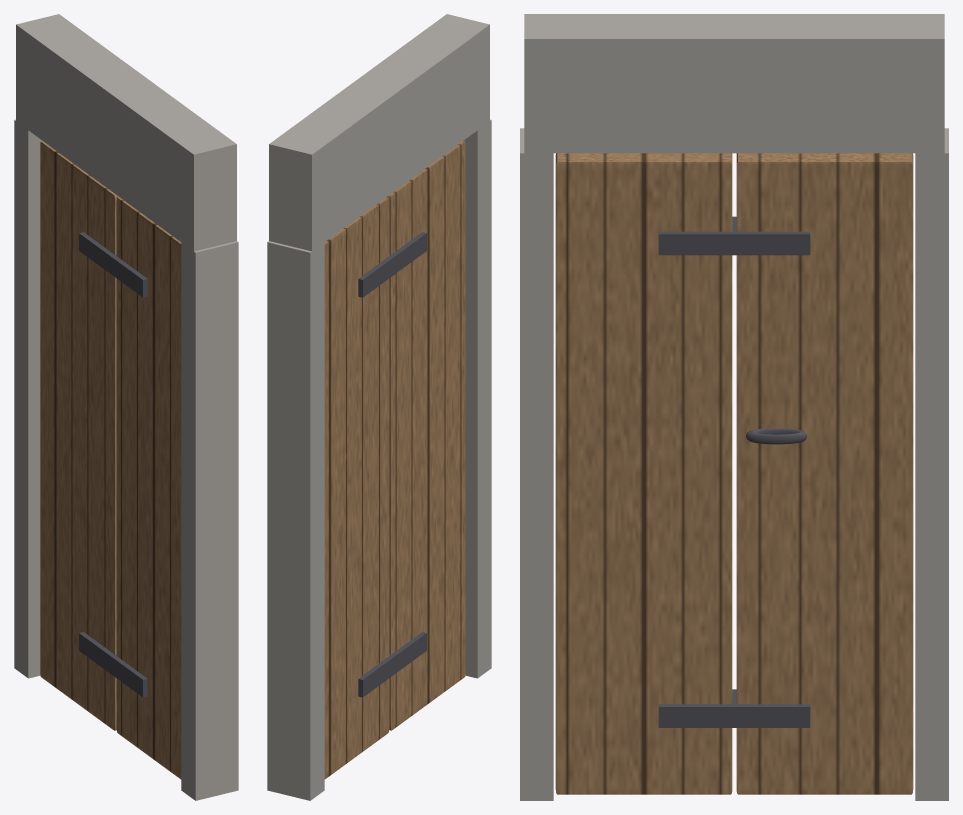
File: door.glb
3 views of the same model, side by side, from view 1: azimuth 30°, elevation 25°; view 2: azimuth 150°, elevation 25°; view 3: azimuth 270°, elevation 25° (orthographic). The views are drawn at different scales.
Visible parts, largest first — view 1: d_leaf.001, d_jamb.001, d_lintel, d_jamb, d_hinge, d_hinge.001; view 2: d_leaf.001, d_jamb, d_lintel, d_jamb.001, d_hinge, d_hinge.001; view 3: d_leaf.001, d_lintel, d_jamb, d_jamb.001, d_hinge, d_hinge.001, d_ring.
Part boxes in pixels (x1,y1,x2,y2): d_leaf.001: (40, 141, 181, 779); d_jamb.001: (181, 241, 238, 800); d_lintel: (16, 14, 236, 251); d_jamb: (14, 119, 42, 678); d_hinge: (79, 232, 147, 297); d_hinge.001: (79, 632, 147, 697); d_leaf.001: (324, 141, 465, 779); d_jamb: (267, 241, 324, 800); d_lintel: (269, 14, 489, 251); d_jamb.001: (463, 119, 491, 678); d_hinge: (358, 232, 426, 297); d_hinge.001: (358, 632, 426, 697); d_leaf.001: (555, 153, 913, 794); d_lintel: (524, 14, 944, 153); d_jamb: (915, 128, 948, 800); d_jamb.001: (520, 128, 553, 800); d_hinge: (658, 216, 810, 255); d_hinge.001: (658, 689, 810, 727); d_ring: (746, 428, 807, 444).
Bounding box in the file's own units: 0.1469 × 2 × 1.02.
3 materials, 1 textured.
